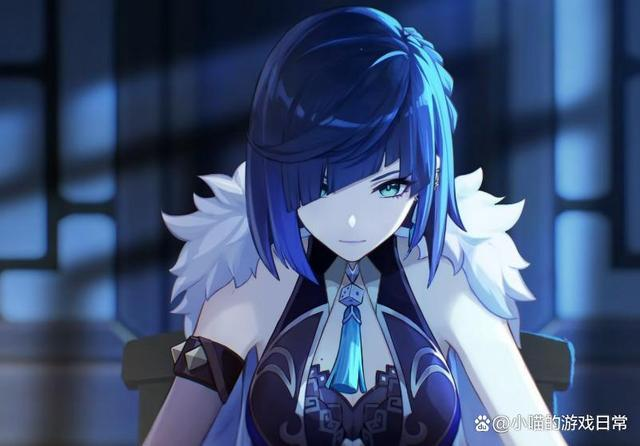夜兰: (127, 8, 571, 446)
